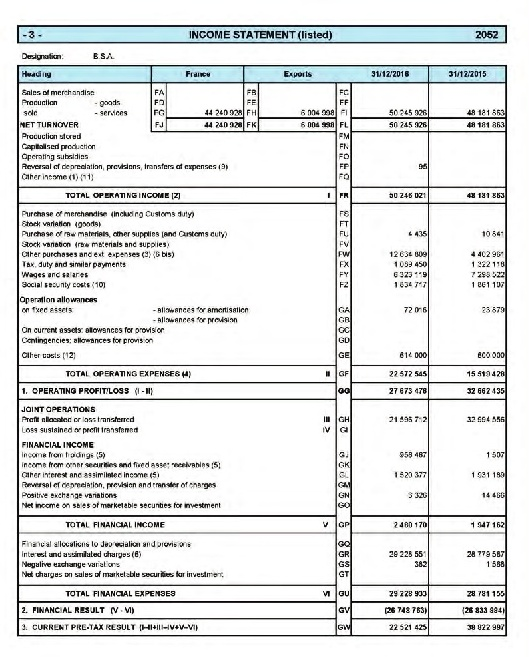table: (0, 0, 529, 657)
